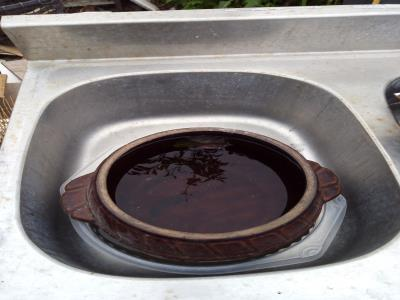bowl: (88, 125, 328, 268)
